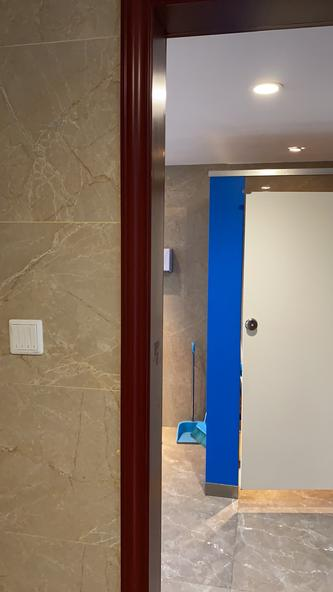switch: (7, 323, 41, 351)
